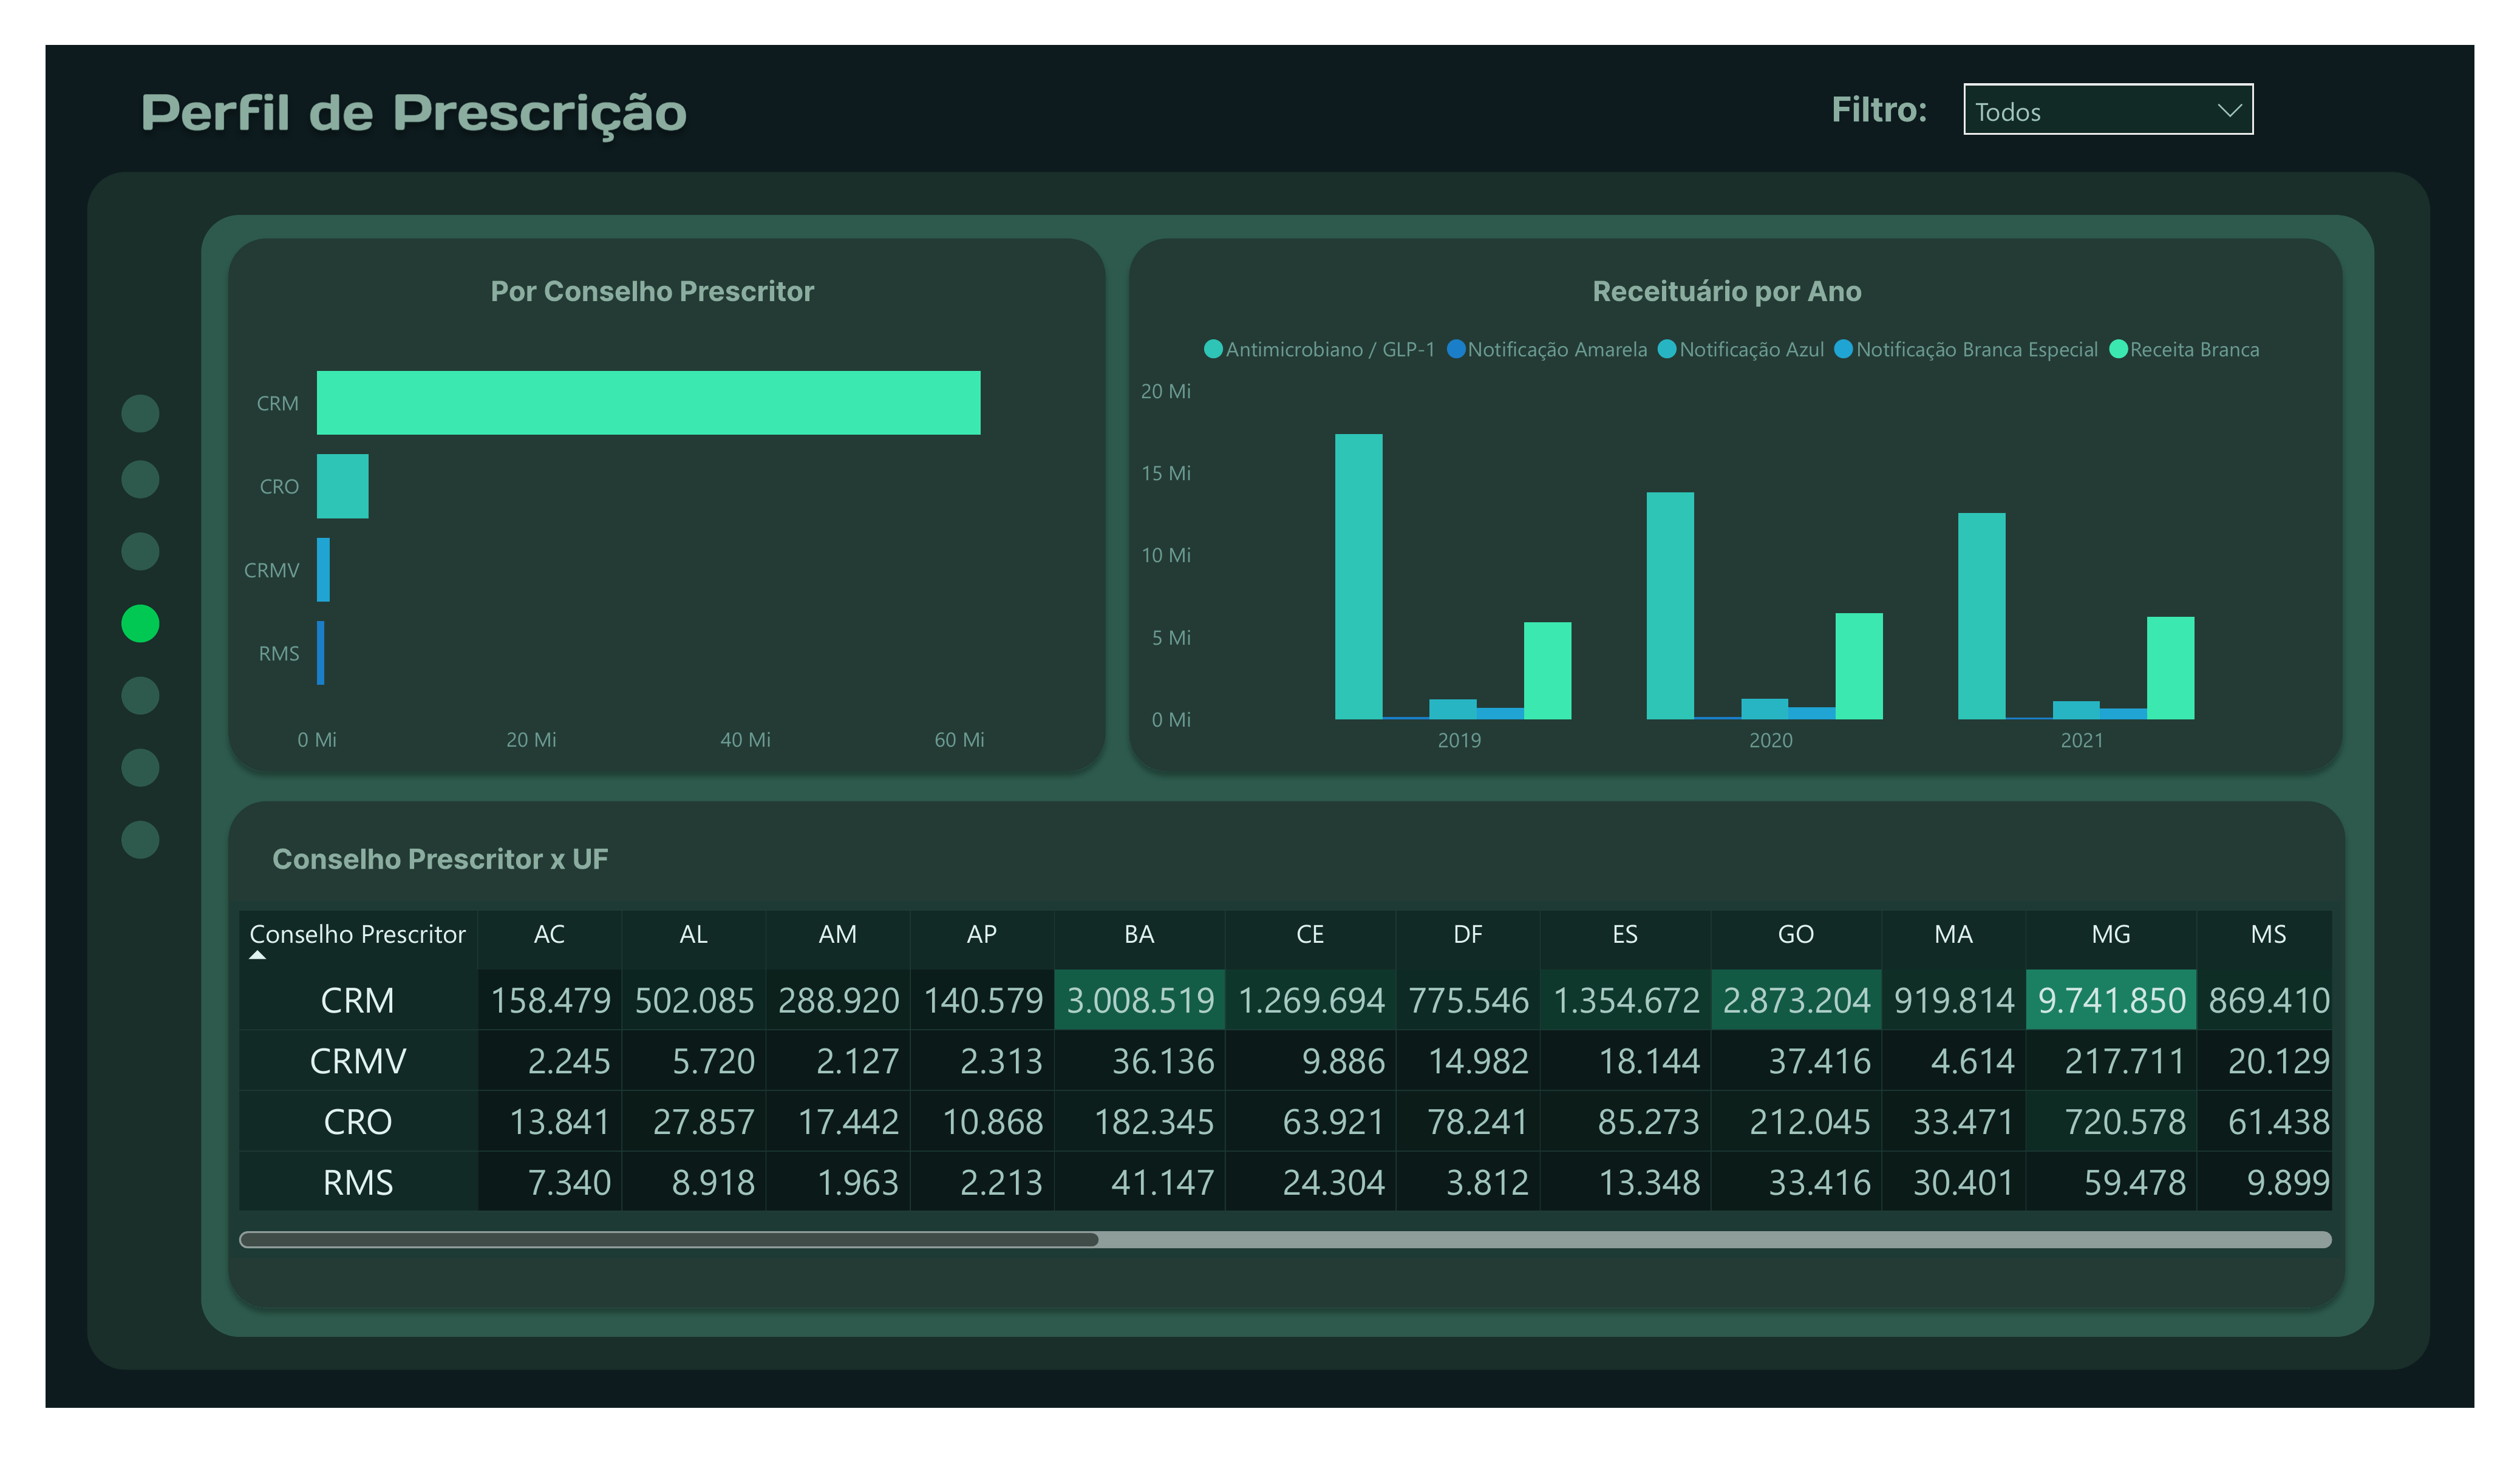

Layout of this report page (visuals, bound fields, positions):
{"tool":"powerbi","page":{"name":"Prescrição","canvas":[1280,720],"ordinal":3},"visuals":[{"type":"barChart","fields":{"Category":["Prescrição.Conselho Prescritor"],"Y":["Sum(Prescrição.Total Registros)"]},"box":[97.1,141.4,460,242.9],"z":0},{"type":"pivotTable","fields":{"Rows":["Prescrição.Conselho Prescritor"],"Columns":["Prescrição.UF Venda"],"Values":["Sum(Prescrição.Total Registros)"]},"box":[97.1,440,1112.9,225.7],"z":1000},{"type":"lineClusteredColumnComboChart","fields":{"Category":["Prescrição.Ano"],"Y":["Sum(Prescrição.Total Registros)"],"Series":["Prescrição.Receita"]},"box":[572.3,140.8,637.7,243.1],"z":2000}]}

Visuals, with their boxes on the page's 1280x720 design canvas (x1, y1, x2, y2). These are canvas units, not pixel positions in the 2520x1457 screenshot, which may show the page scaled, cropped or inside an application window:
barChart - Prescrição.Conselho Prescritor x Sum(Prescrição.Total Registros): box=[97, 141, 557, 384]
pivotTable - Prescrição.Conselho Prescritor x Prescrição.UF Venda: box=[97, 440, 1210, 666]
lineClusteredColumnComboChart - Prescrição.Ano x Sum(Prescrição.Total Registros): box=[572, 141, 1210, 384]
